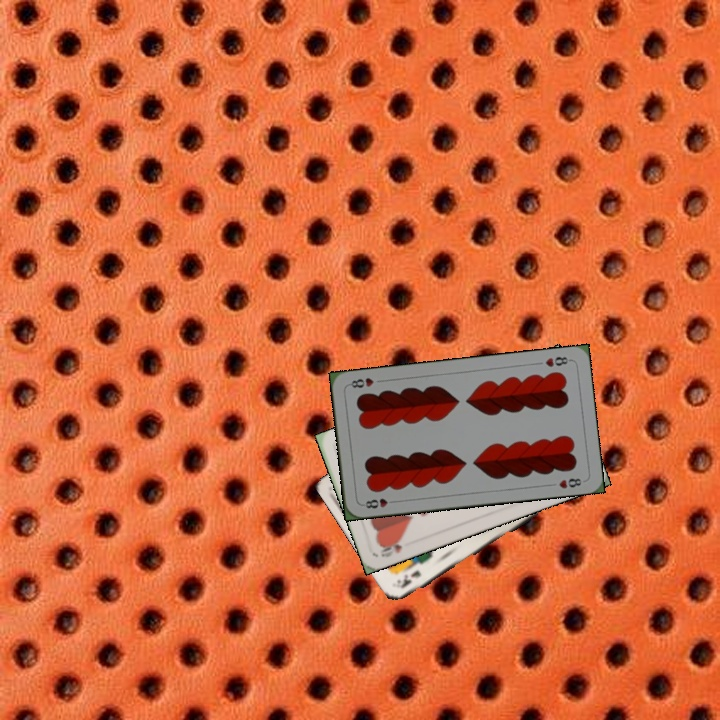EK: (397, 566, 423, 591)
H8: (359, 494, 399, 511), (541, 353, 573, 370)
HO: (376, 535, 405, 560)
